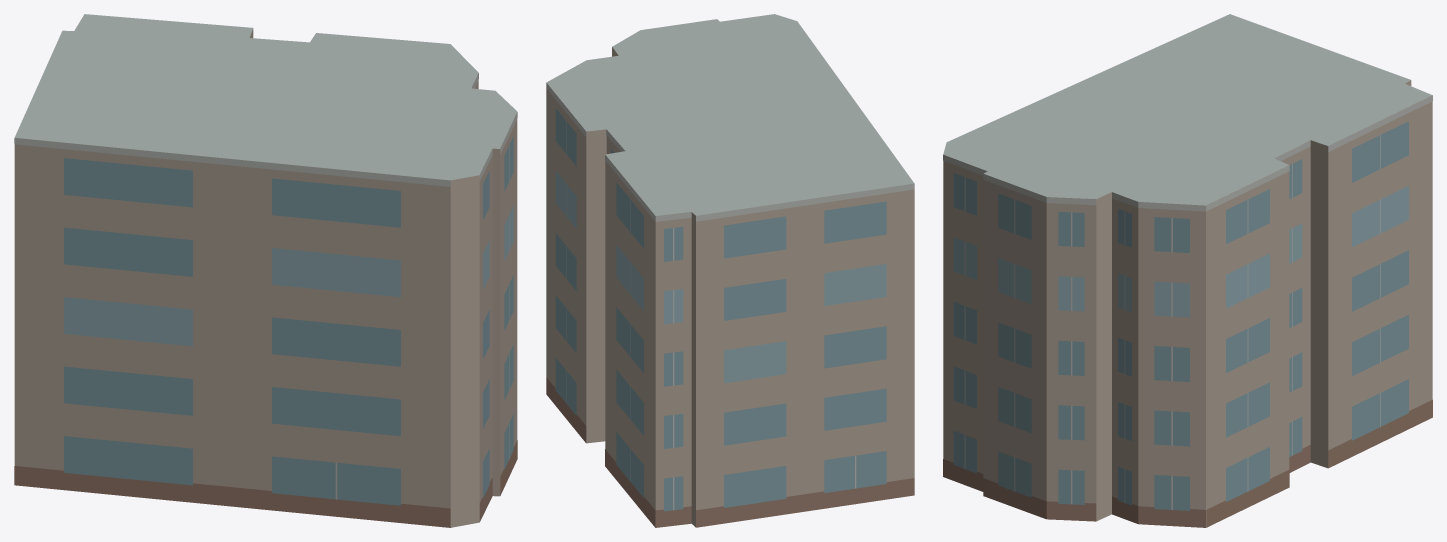
File: survey-upis-33016719.glb
3 renders of one model, left to right at view 1: azimuth 30°, elevation 25°; view 2: azimuth 150°, elevation 25°; view 3: azimuth 270°, elevation 25°, orthographic. The views are drawn at different scales.
Parts seen in each view (by area): view 1: survey-upis-33016719.tmp; view 2: survey-upis-33016719.tmp; view 3: survey-upis-33016719.tmp.
Boxes of the visible parts, box(x1,y1,x2,y2) form: survey-upis-33016719.tmp: box(14, 14, 517, 527); survey-upis-33016719.tmp: box(546, 14, 914, 527); survey-upis-33016719.tmp: box(943, 14, 1432, 527).
Size of the model in its own units: 16.58 by 13 by 17.9.
